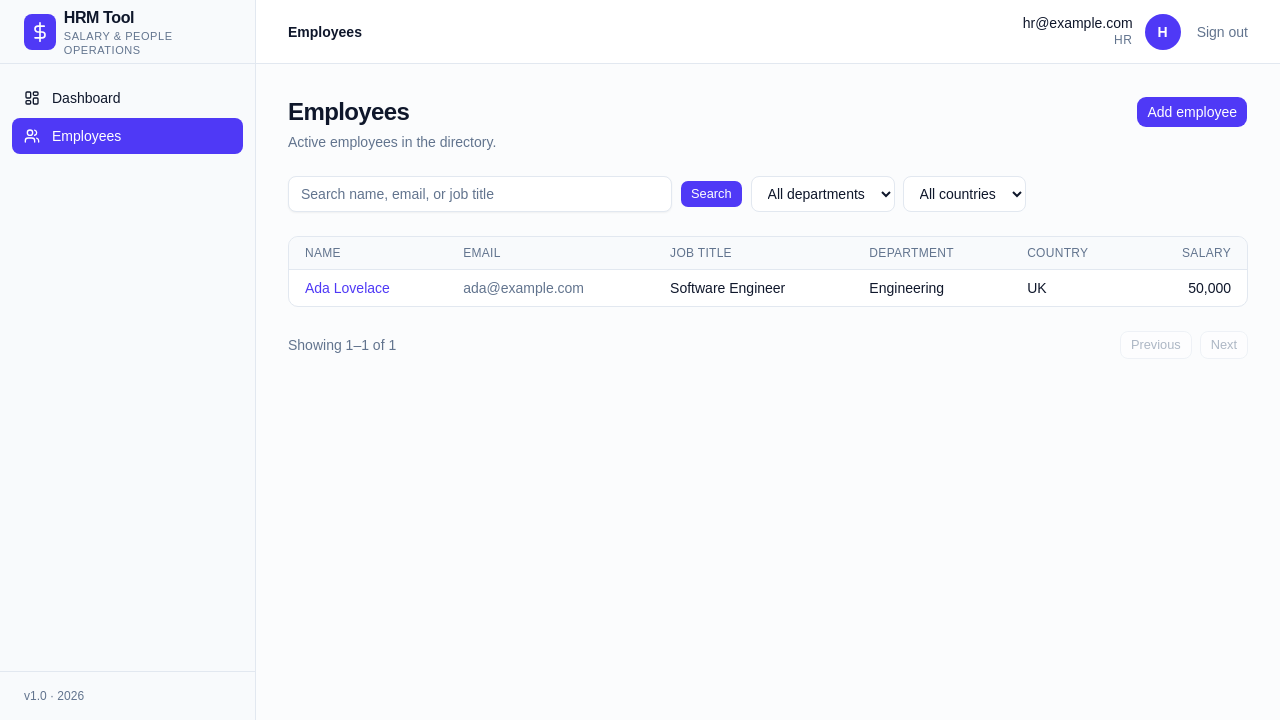
it: EmployeesPage › renders the employee list and filters via search
Expected: the link "Ada Lovelace" is shown, [305,280,390,296]
Expected: the text "Showing 1–1 of 1" is shown, [288,335,396,355]
In the search field named "search employees": coordinates (480, 194) [288,176,672,212], type "grace"
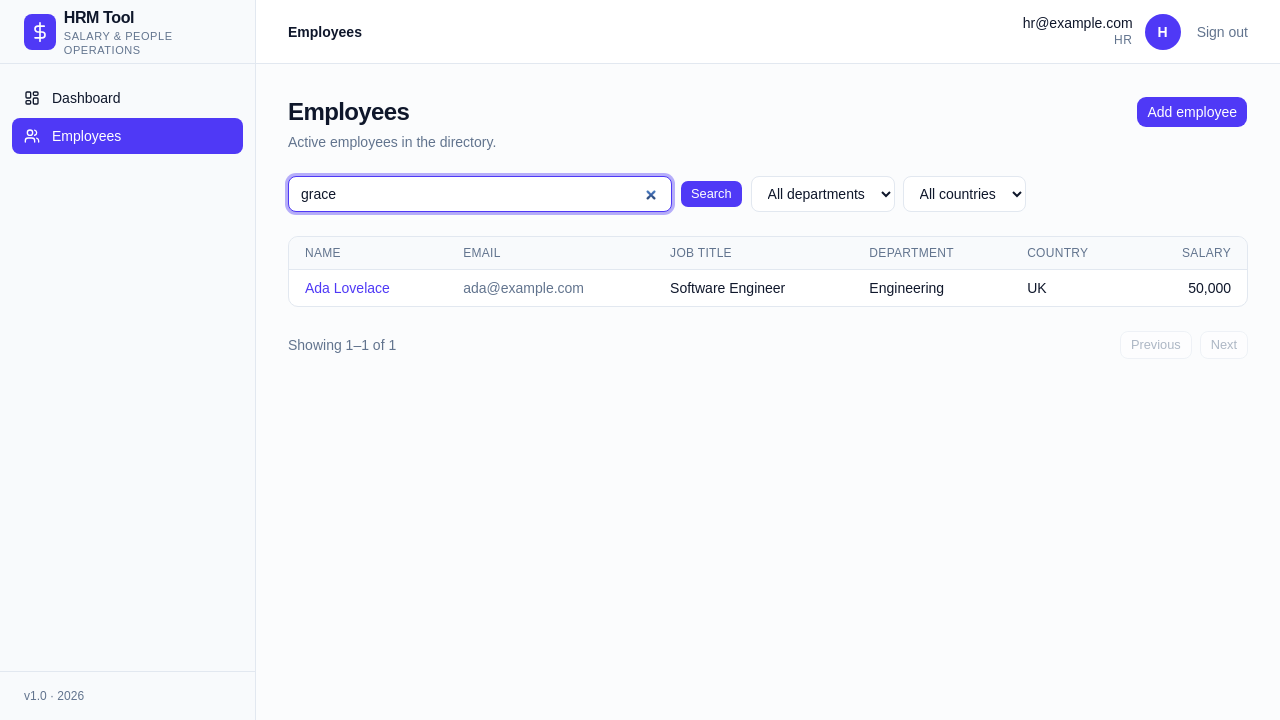
Click the button "Search": coordinates (711, 194) [680,180,742,208]
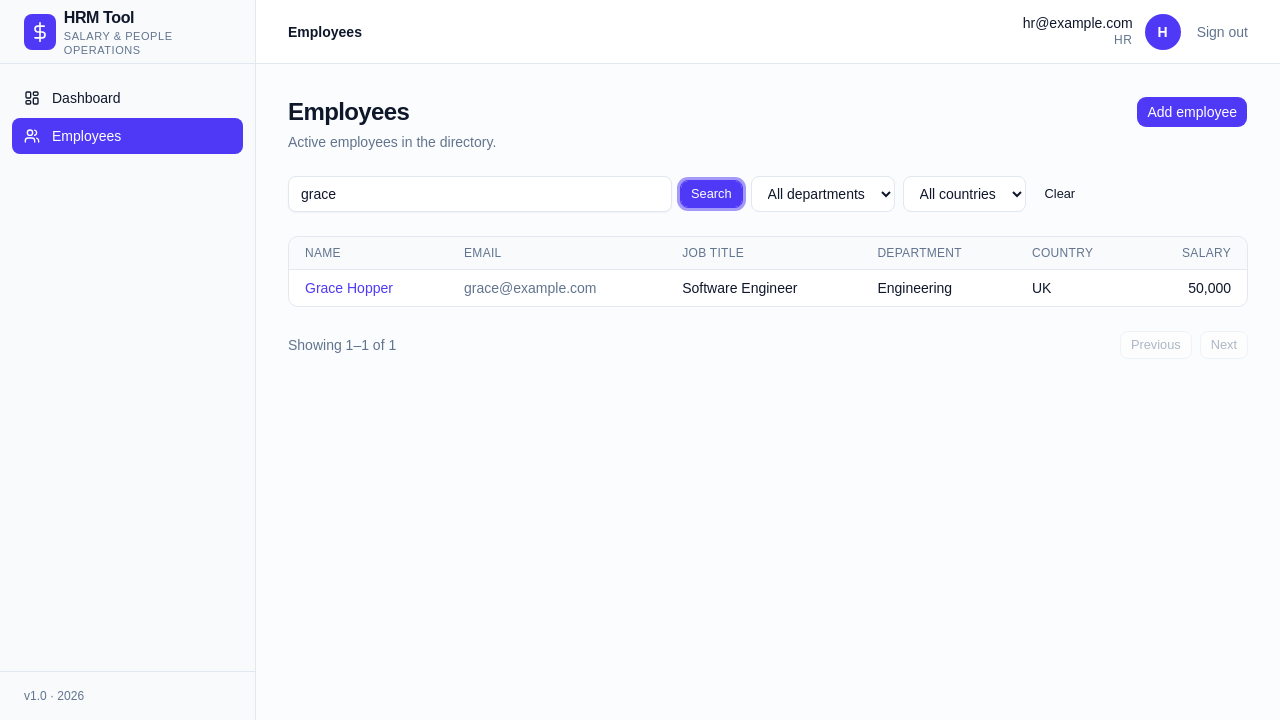
Now the link "Grace Hopper" is shown, box [305,280,393,296]
